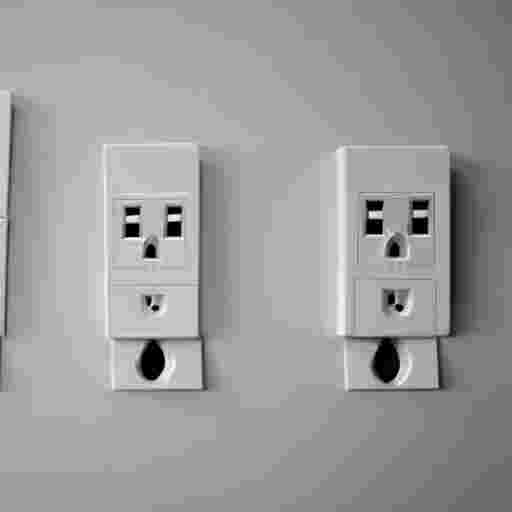power outlet: (336, 146, 450, 389), (102, 142, 203, 389), (336, 146, 449, 336)
